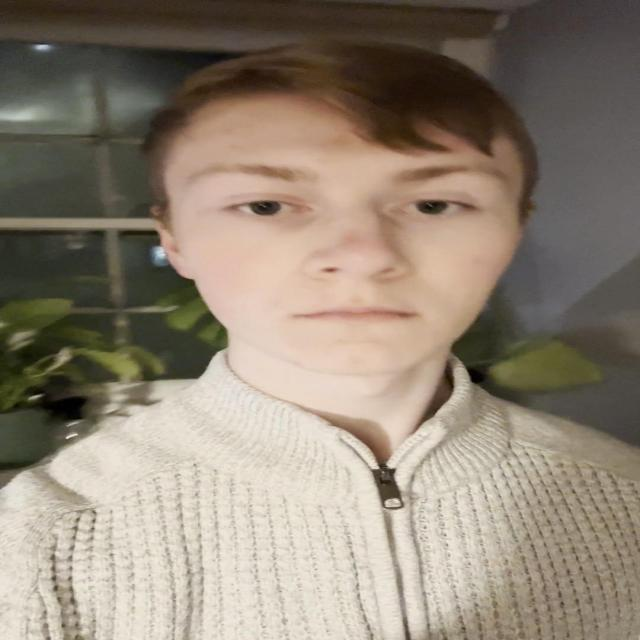no-helmet: (160, 81, 528, 377)
